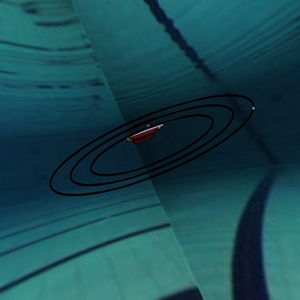circle: (38, 89, 274, 207)
submarine: (119, 109, 181, 157)
